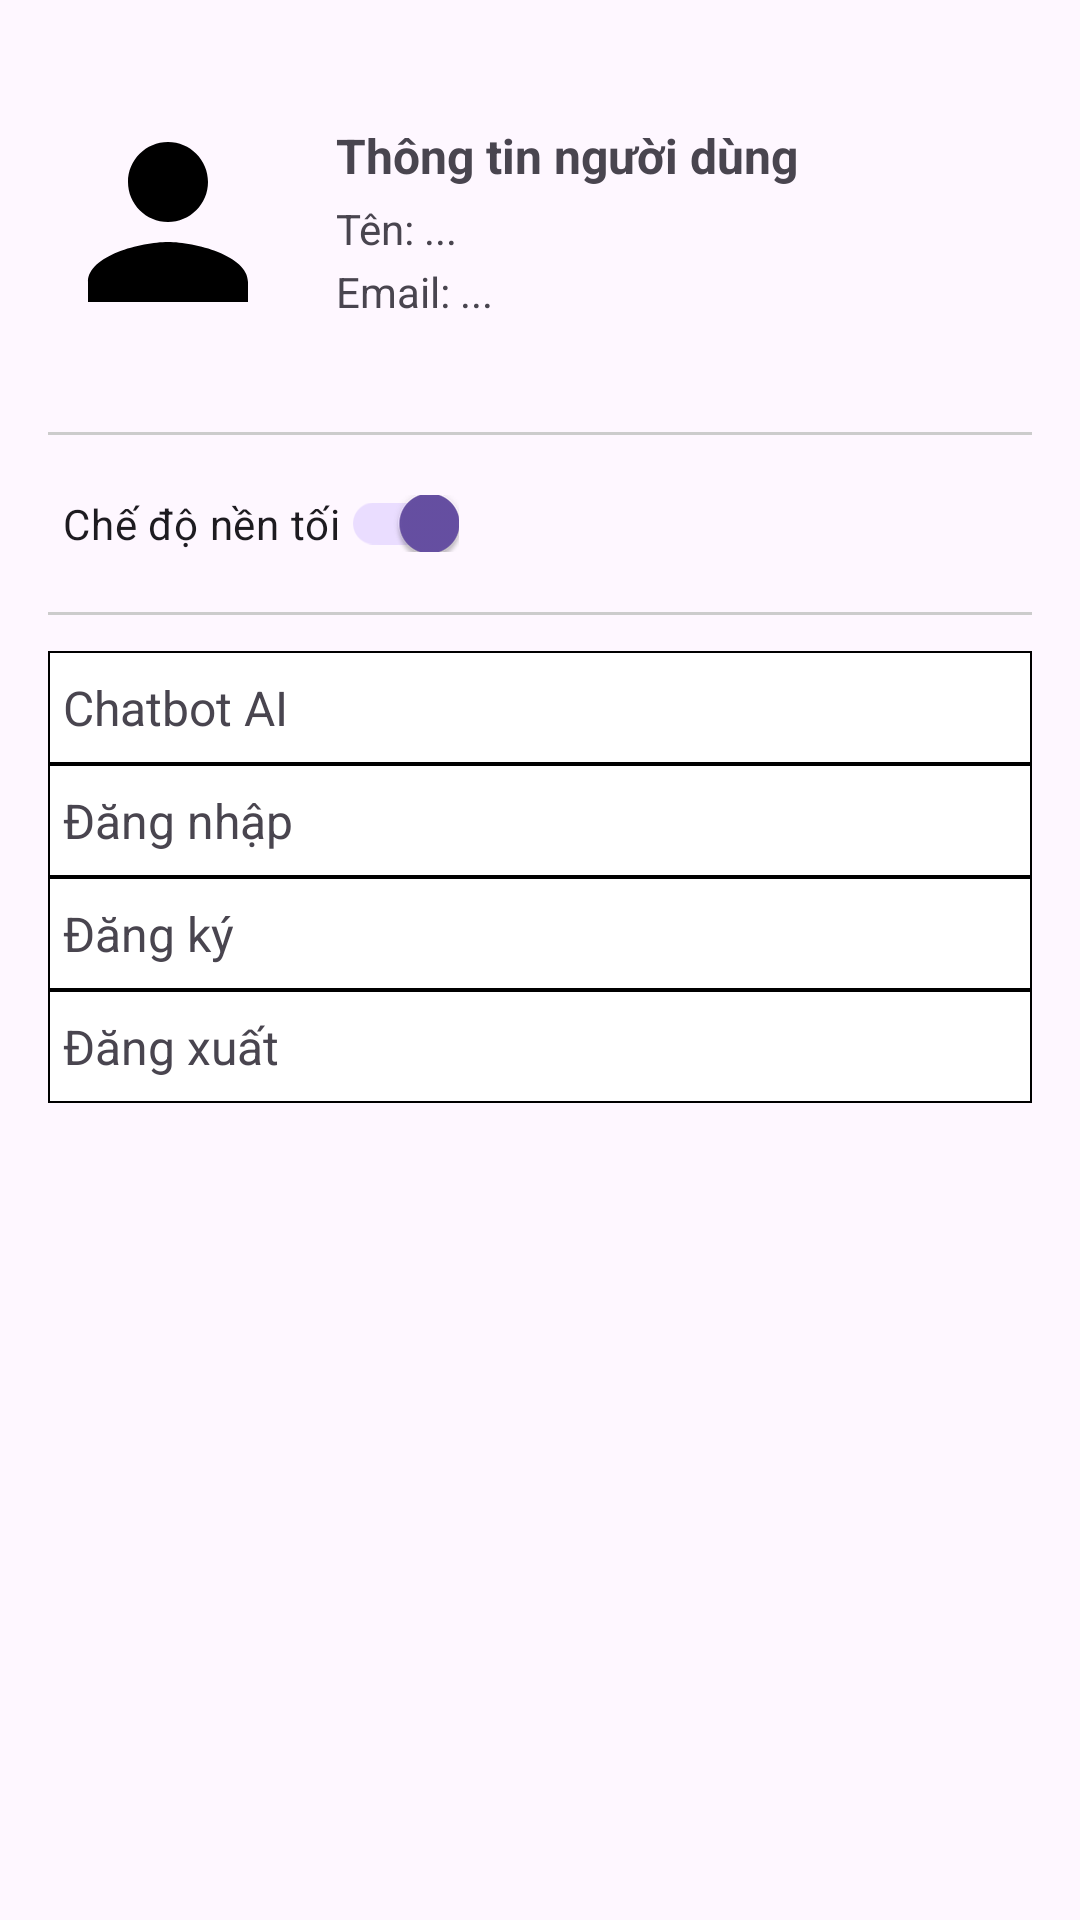

Icon bounding boxes for this 1080×1920 phone screenshot, format (x1=x1, y1=y1, x2=x2, y2=y2):
user: (x1=88, y1=142, x2=248, y2=302)
